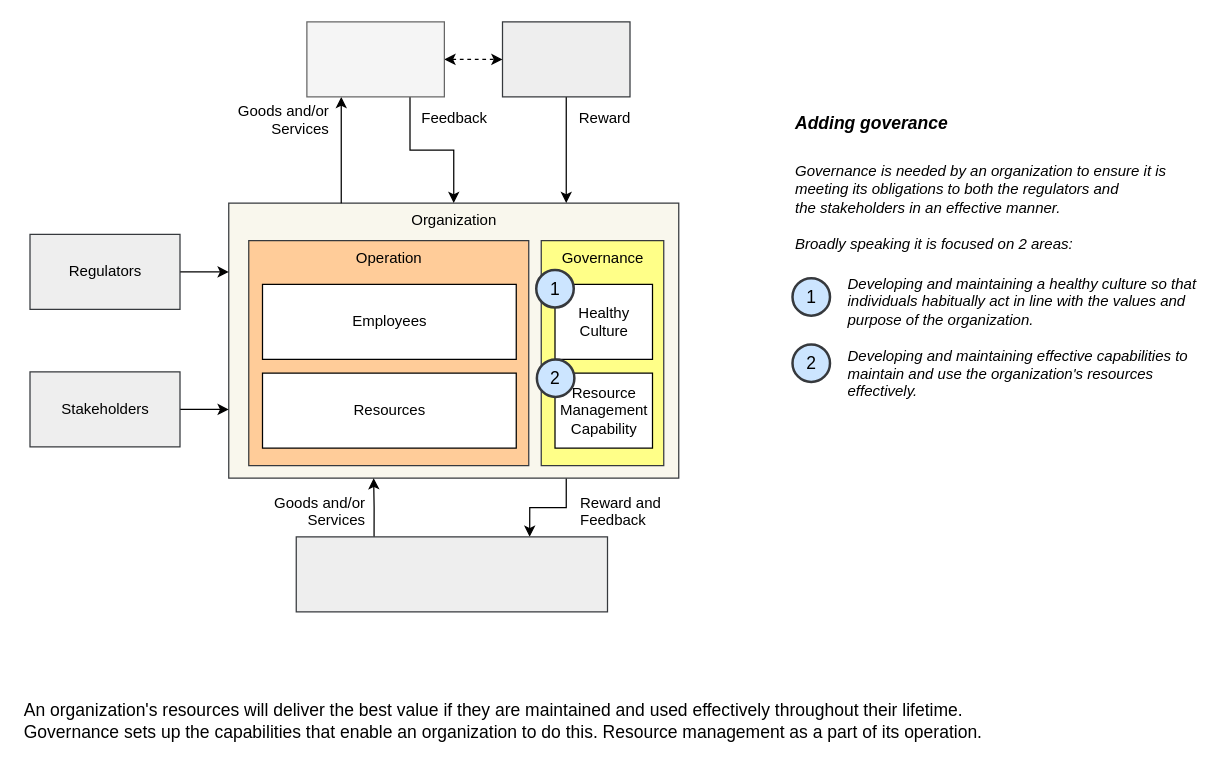
This 1229x764 diagram has some shape labels left out. Here are the shapes that lost their labels. From the top down, the centre of each, then its label:
At (375,59): "Consumers".
At (565,59): "Customers".
At (451,574): "Business Partners".
